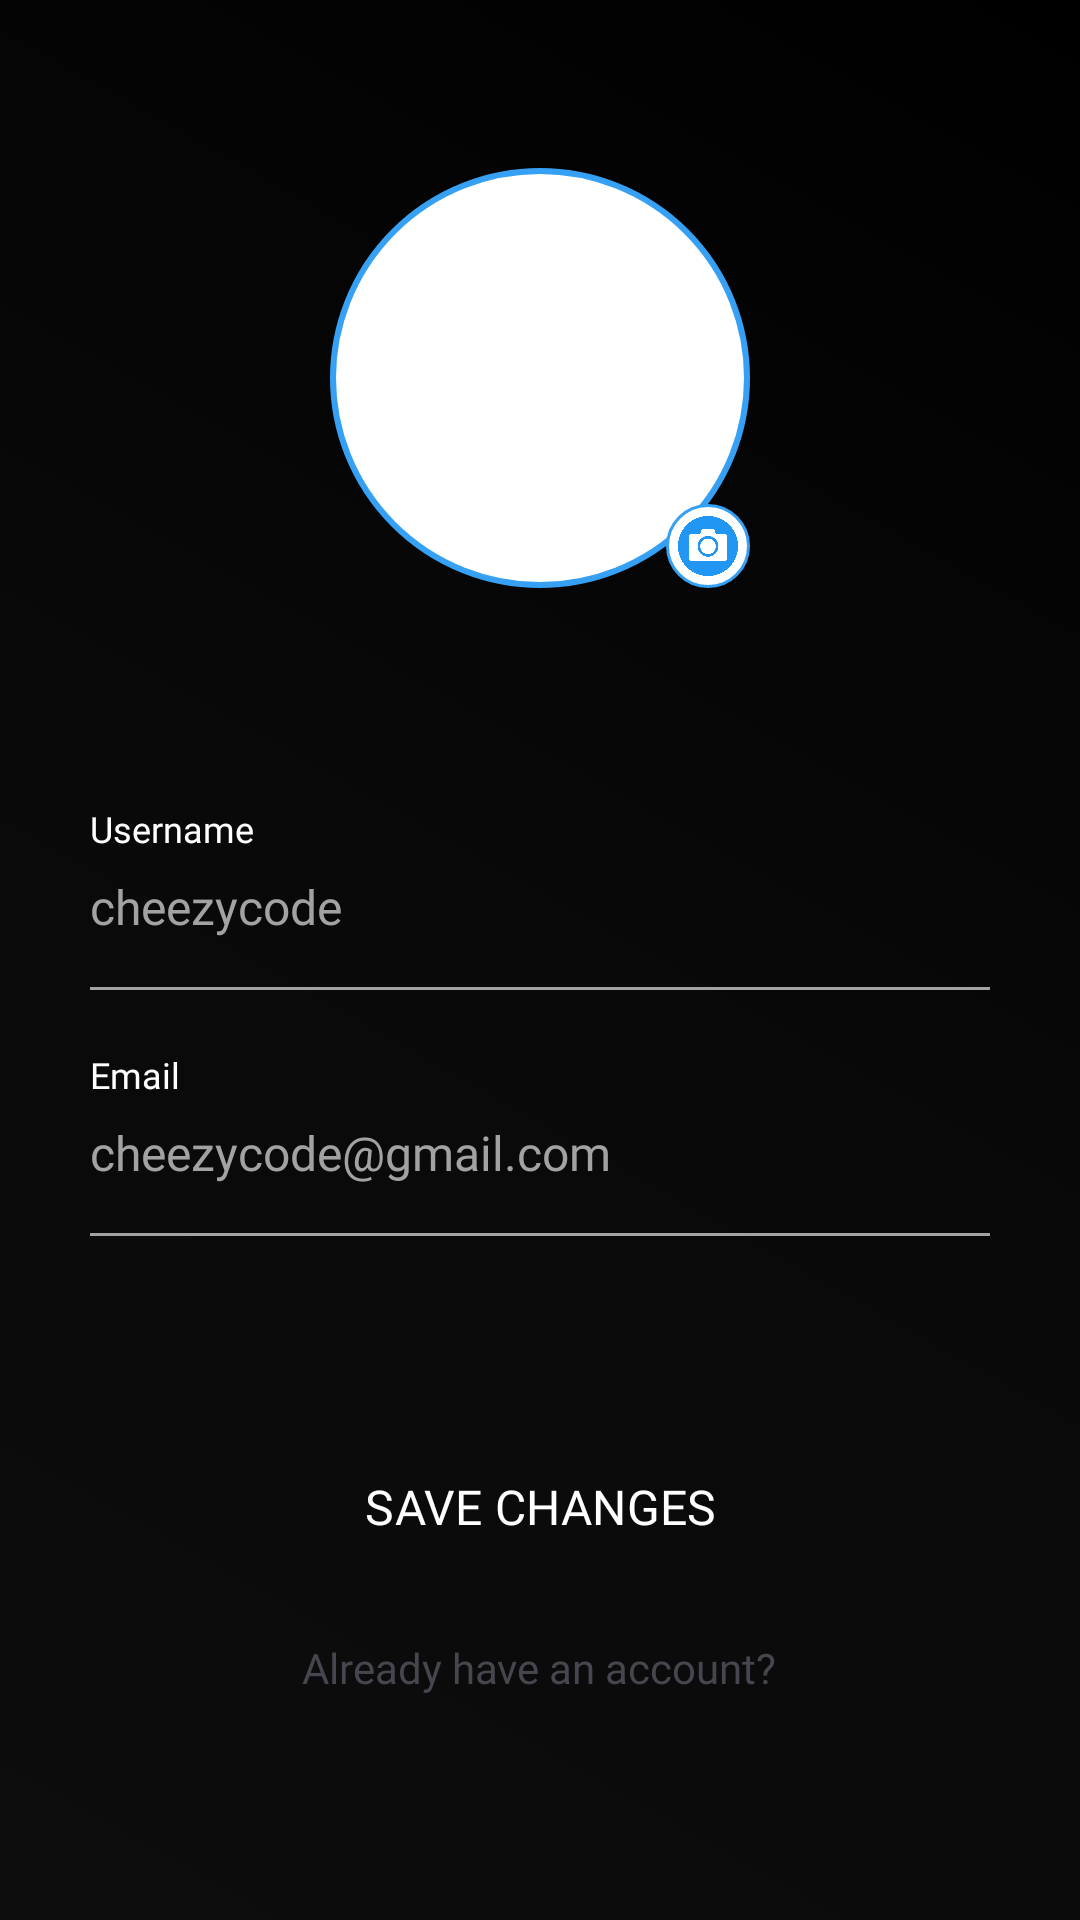

Where icons sit on this 1080w x 1920h app screen, as bbox(x1, y1, x2, y2):
Edit Profile: bbox(666, 504, 750, 588)
